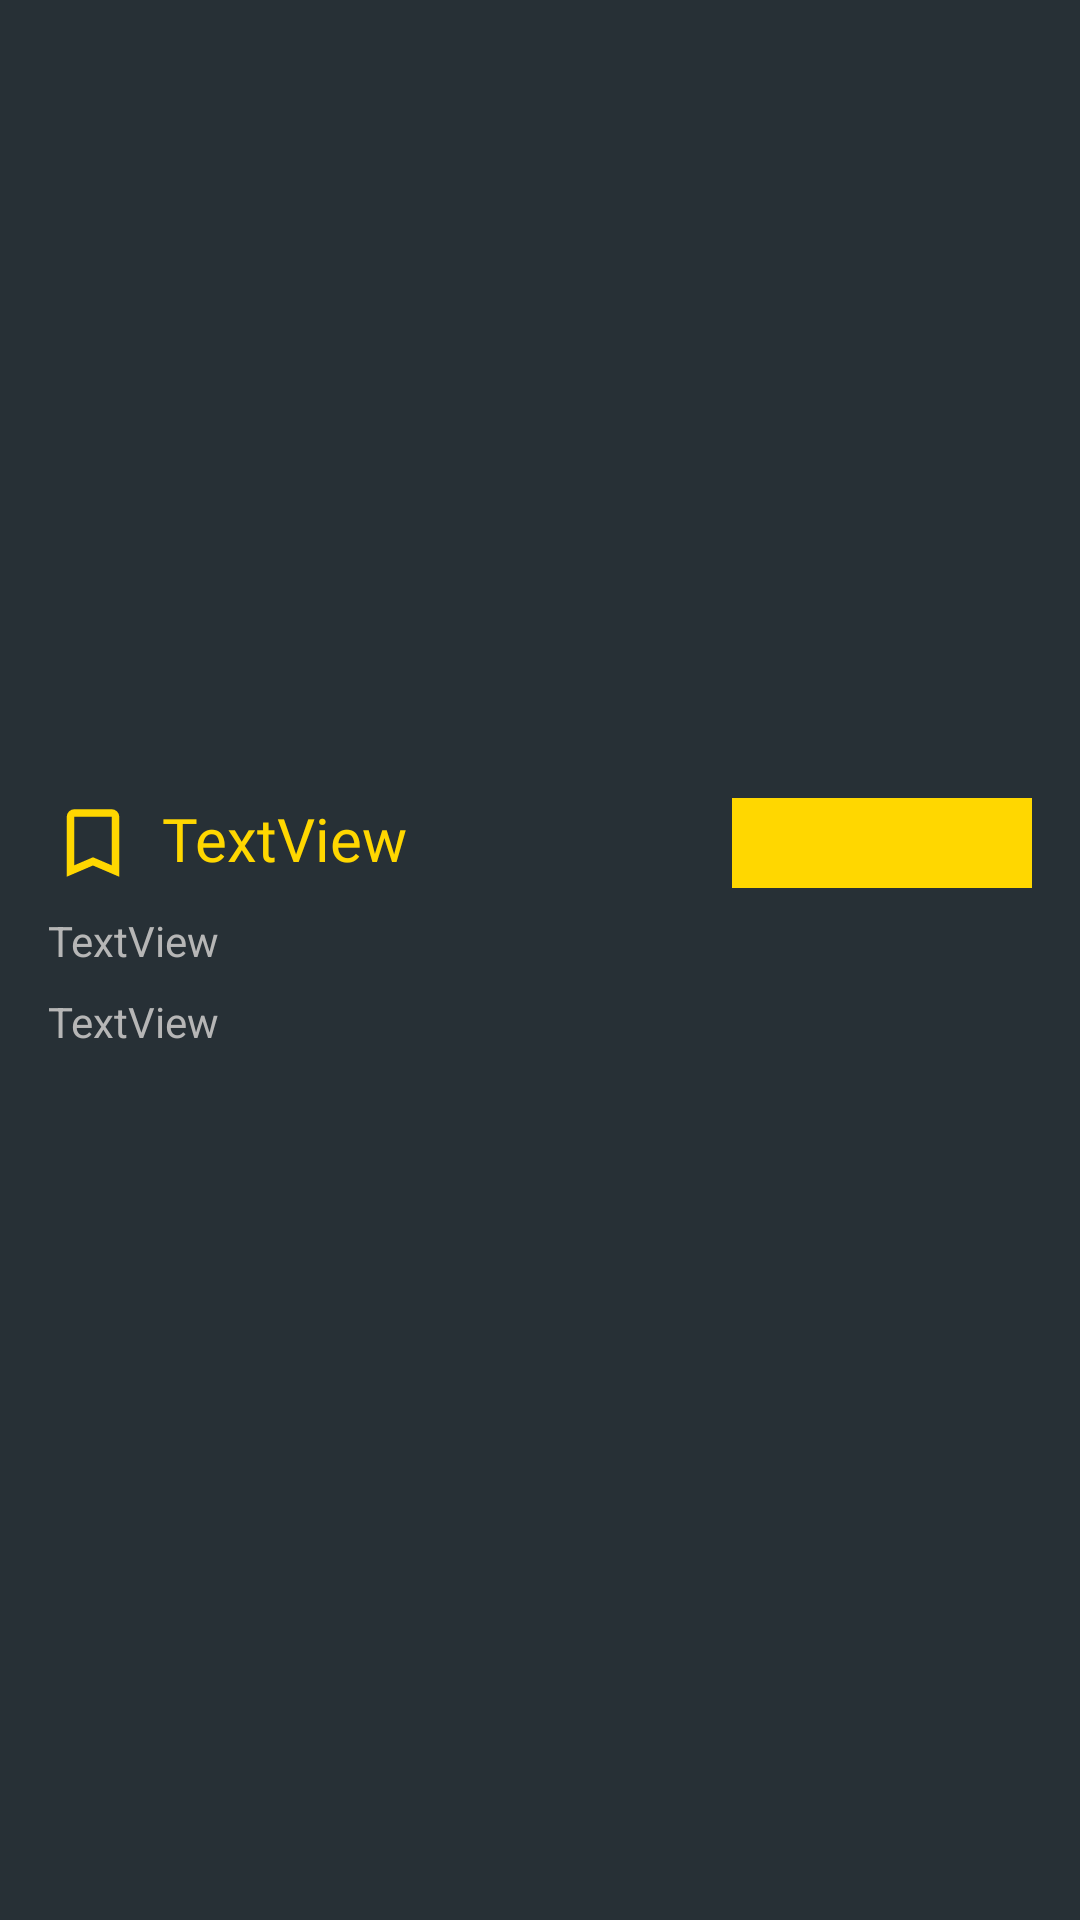

Screen size 1080*1920. Icon name, then its center in pixels as point (x, y):
favorit: point (93, 843)
